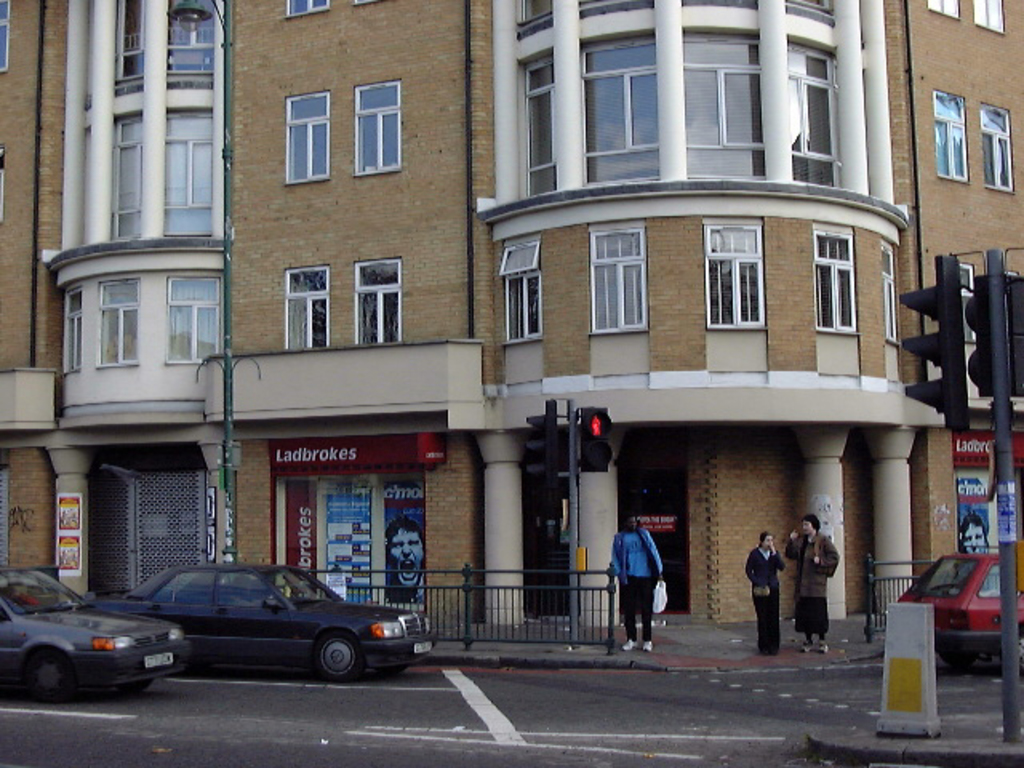Car: (105, 566, 406, 684), (0, 563, 192, 705), (894, 552, 1022, 676)
